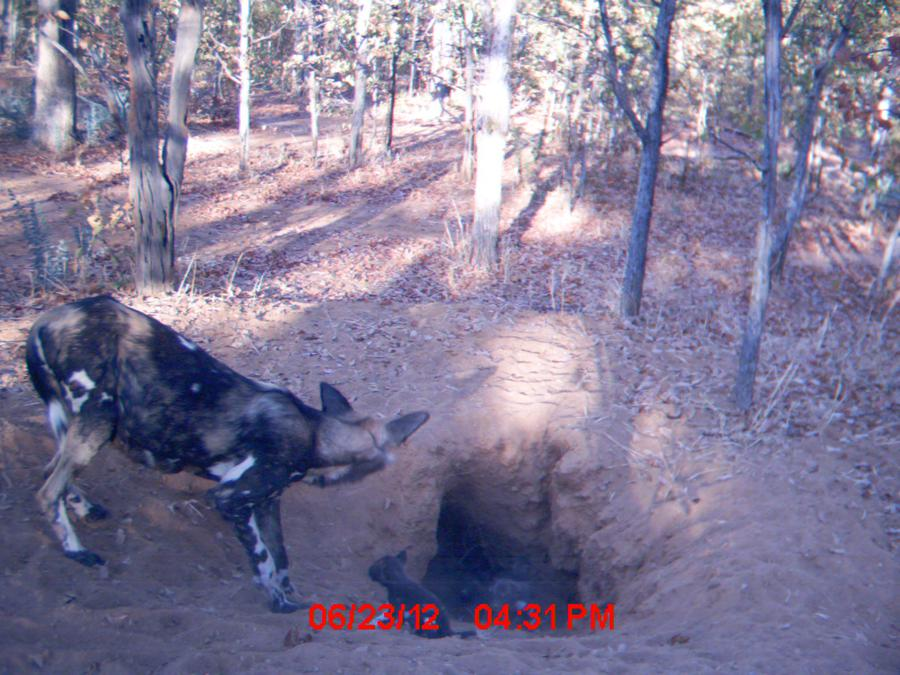wilddog: (43, 304, 412, 549)
